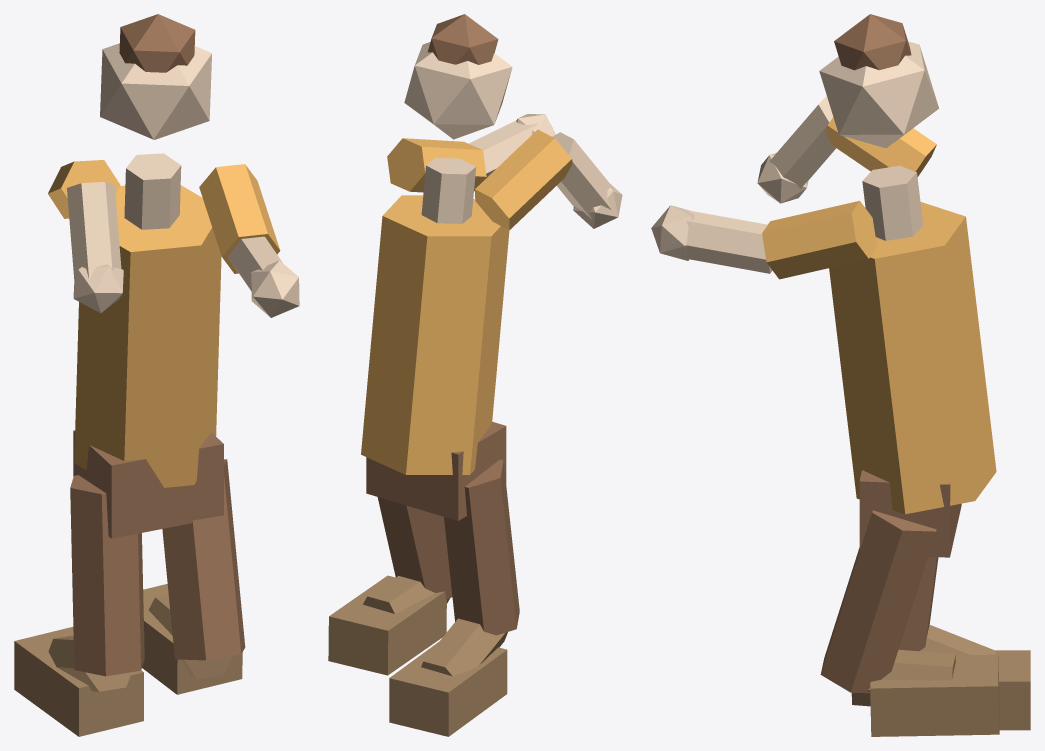
The model's file is pose_attack_1_20.glb.
The picture shows the model from 3 angles, left to right: view 1: azimuth 30°, elevation 25°; view 2: azimuth 150°, elevation 25°; view 3: azimuth 270°, elevation 25°; orthographic projection. The views are drawn at different scales.
Visible parts, largest first — view 1: pose; view 2: pose; view 3: pose.
Part boxes in pixels (x1=…): pose: x1=14, y1=14, x2=299, y2=736; pose: x1=328, y1=14, x2=622, y2=736; pose: x1=651, y1=14, x2=1030, y2=736.
Size of the model in its own units: 0.4705 by 1.48 by 0.7103.
